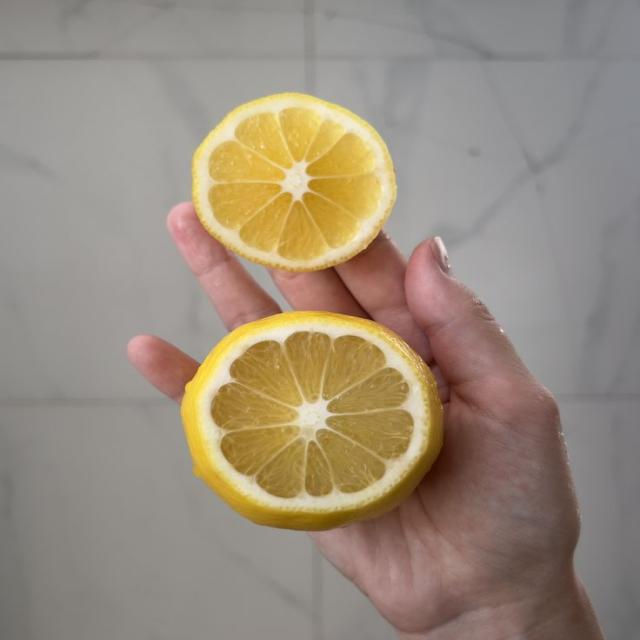lemon: (182, 312, 442, 529), (193, 94, 395, 270)
